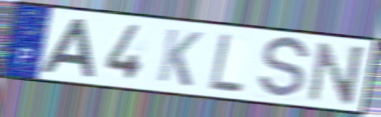4: (103, 23, 144, 83)
A: (39, 16, 96, 79)
K: (154, 26, 204, 89)
L: (207, 31, 245, 95)
N: (306, 40, 367, 106)
S: (255, 35, 312, 101)
